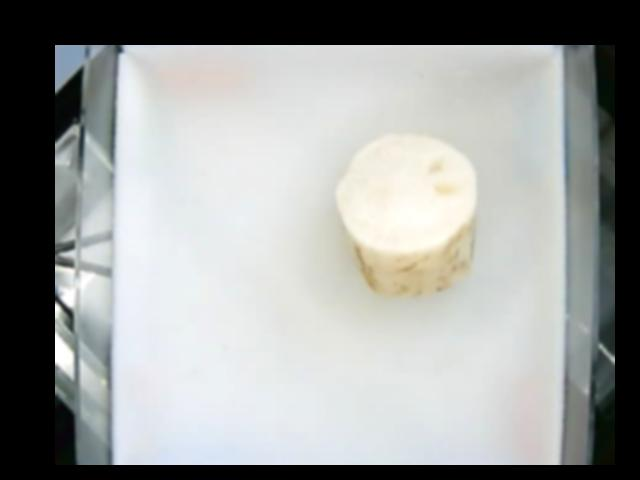Mooli: (335, 130, 478, 297)
